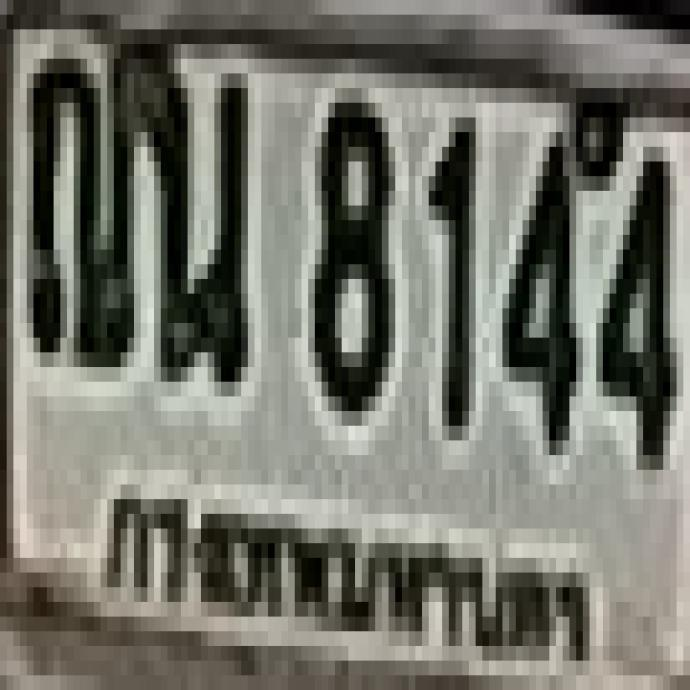1: (424, 105, 470, 422)
4: (498, 110, 573, 439), (595, 132, 670, 453)
8: (307, 86, 386, 402)
A13: (17, 35, 145, 369)
A25: (134, 54, 261, 394)
BKK: (94, 461, 599, 674)
